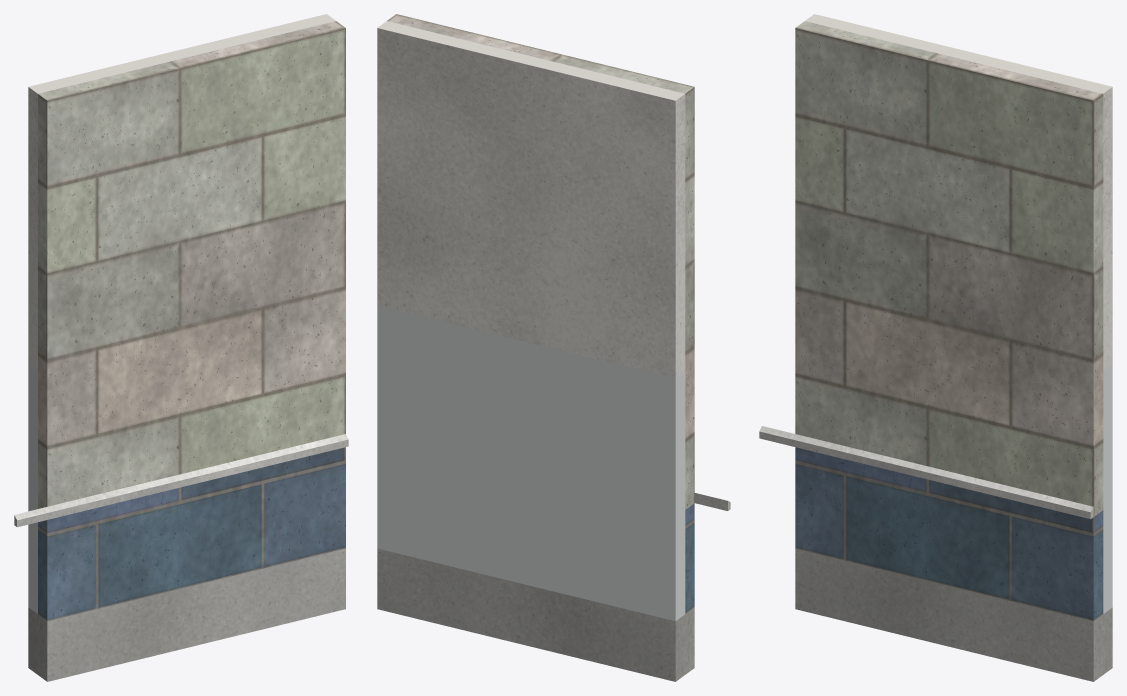
File: r_plain_l_ea.glb
3 renders of one model, left to right at view 1: azimuth 30°, elevation 25°; view 2: azimuth 150°, elevation 25°; view 3: azimuth 330°, elevation 25°, orthographic.
Parts seen in each view (by area): view 1: r_plain_l_ea_cmu, r_plain_l_ea_cmu2, r_plain_l_ea_concrete, r_plain_l_ea_plaster, r_plain_l_ea_coping, r_plain_l_ea_tile; view 2: r_plain_l_ea_plaster, r_plain_l_ea_tile, r_plain_l_ea_concrete, r_plain_l_ea_cmu, r_plain_l_ea_cmu2; view 3: r_plain_l_ea_cmu, r_plain_l_ea_cmu2, r_plain_l_ea_concrete, r_plain_l_ea_plaster, r_plain_l_ea_coping, r_plain_l_ea_tile.
Boxes of the visible parts, <box> form: r_plain_l_ea_cmu: <box>38,21,345,508</box>; r_plain_l_ea_cmu2: <box>38,447,345,621</box>; r_plain_l_ea_concrete: <box>28,548,345,681</box>; r_plain_l_ea_plaster: <box>28,14,335,370</box>; r_plain_l_ea_coping: <box>14,434,348,527</box>; r_plain_l_ea_tile: <box>28,364,37,613</box>; r_plain_l_ea_plaster: <box>377,21,685,378</box>; r_plain_l_ea_tile: <box>377,305,685,621</box>; r_plain_l_ea_concrete: <box>377,548,694,681</box>; r_plain_l_ea_cmu: <box>387,14,694,509</box>; r_plain_l_ea_cmu2: <box>685,503,694,613</box>; r_plain_l_ea_cmu: <box>795,21,1103,516</box>; r_plain_l_ea_cmu2: <box>795,447,1103,620</box>; r_plain_l_ea_concrete: <box>795,548,1112,681</box>; r_plain_l_ea_plaster: <box>805,14,1112,370</box>; r_plain_l_ea_coping: <box>759,426,1093,519</box>; r_plain_l_ea_tile: <box>1103,365,1112,613</box>.
Size of the model in its own units: 2 by 3.35 by 0.23.
Materials: 6 (5 with a texture image).
